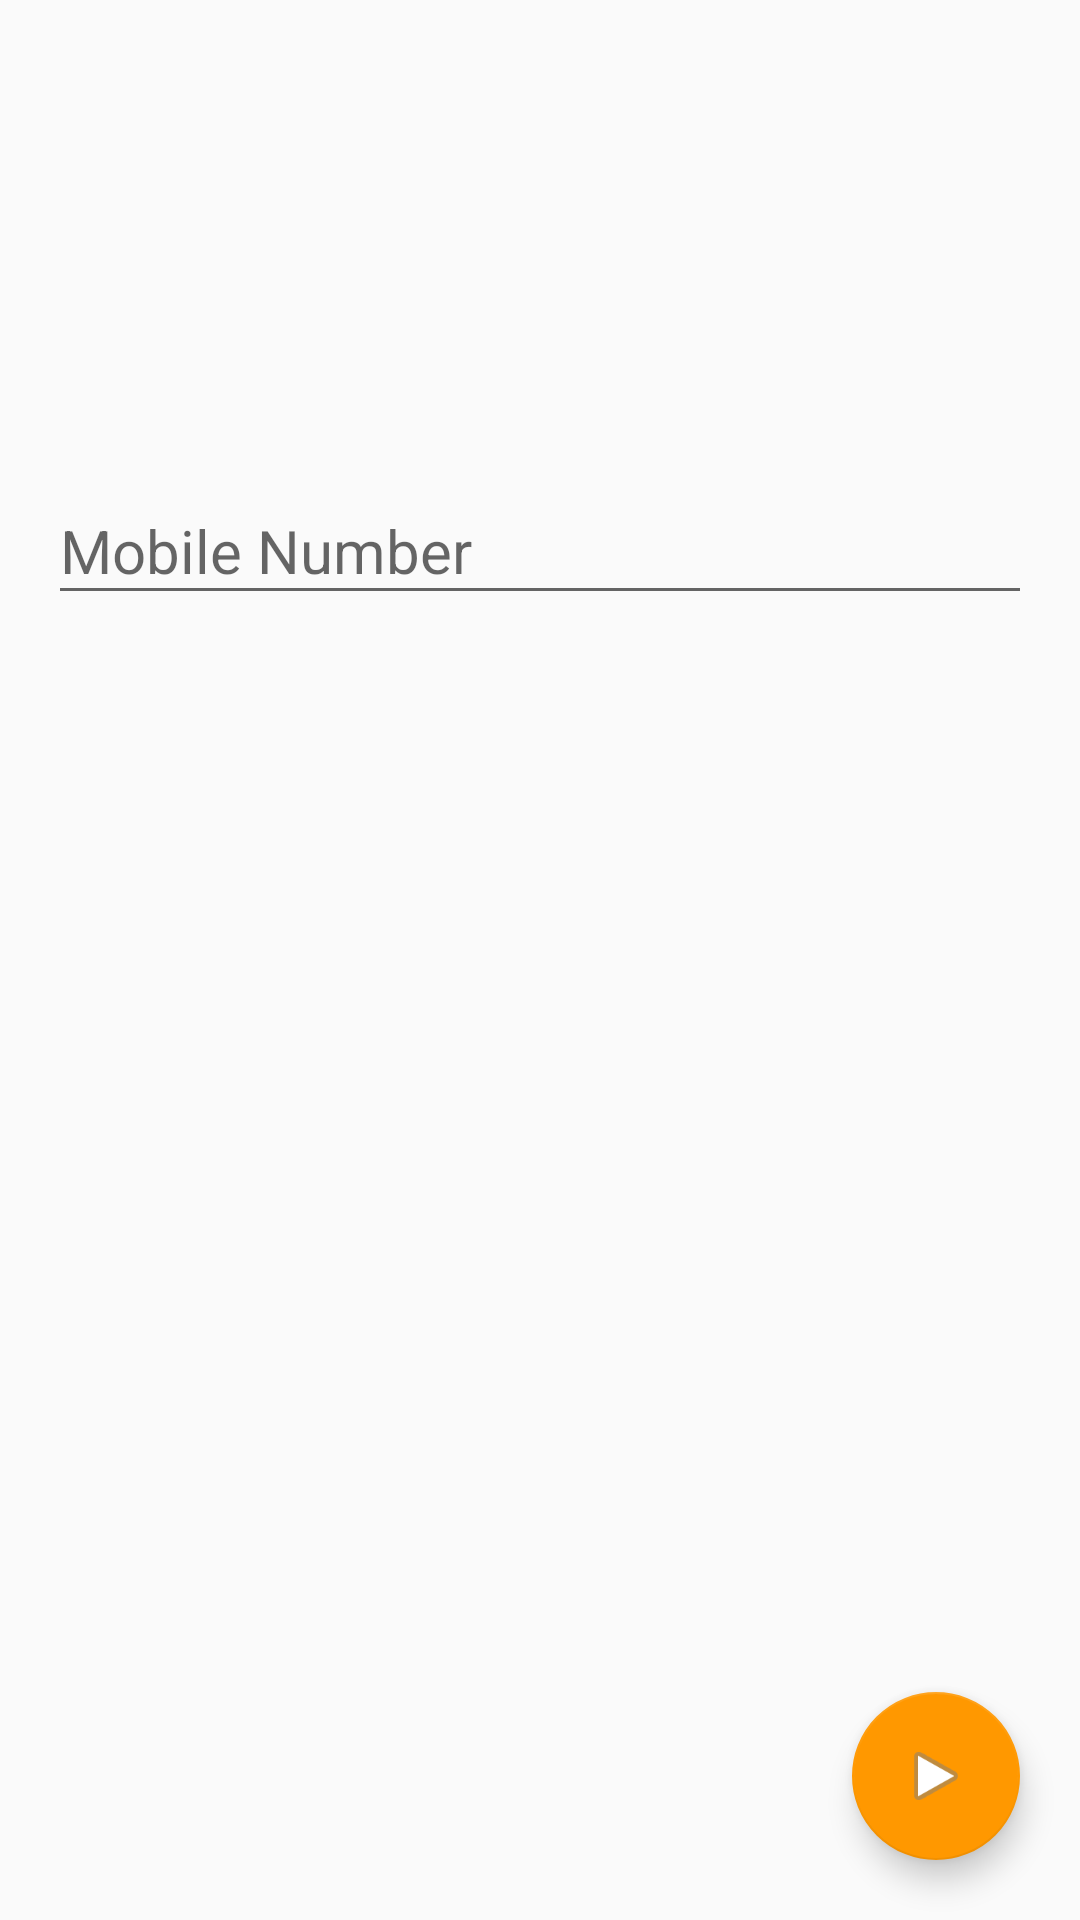

Named icons in this screenshot (1080x1920) and their bounding boxes, box(x1, y1, x2, y2):
play: box(852, 1692, 1020, 1860)
